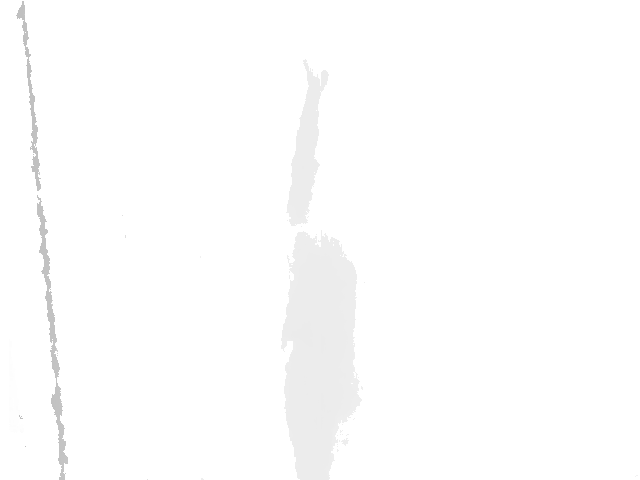hand: (302, 56, 330, 95)
person: (280, 56, 363, 480)
